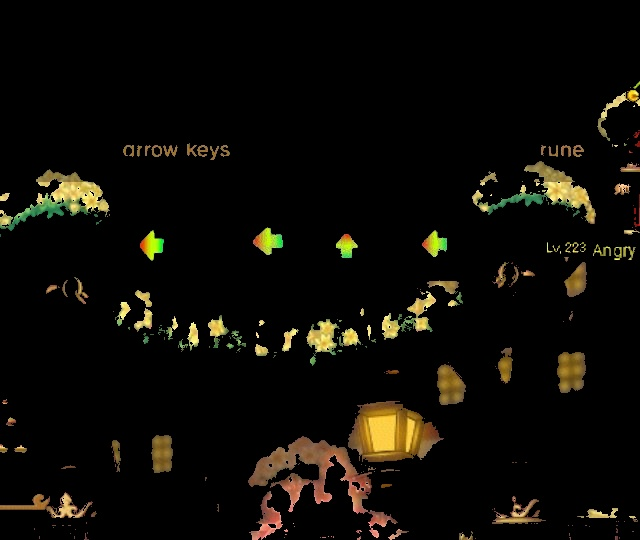left: (246, 223, 292, 262), (131, 226, 173, 265), (419, 227, 455, 264)
up: (328, 229, 364, 265)
